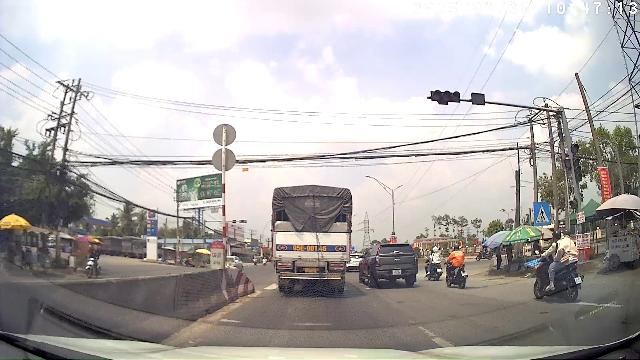423a-duong-nguoi-di-bo-sang-ngang-1: (534, 202, 550, 224)
